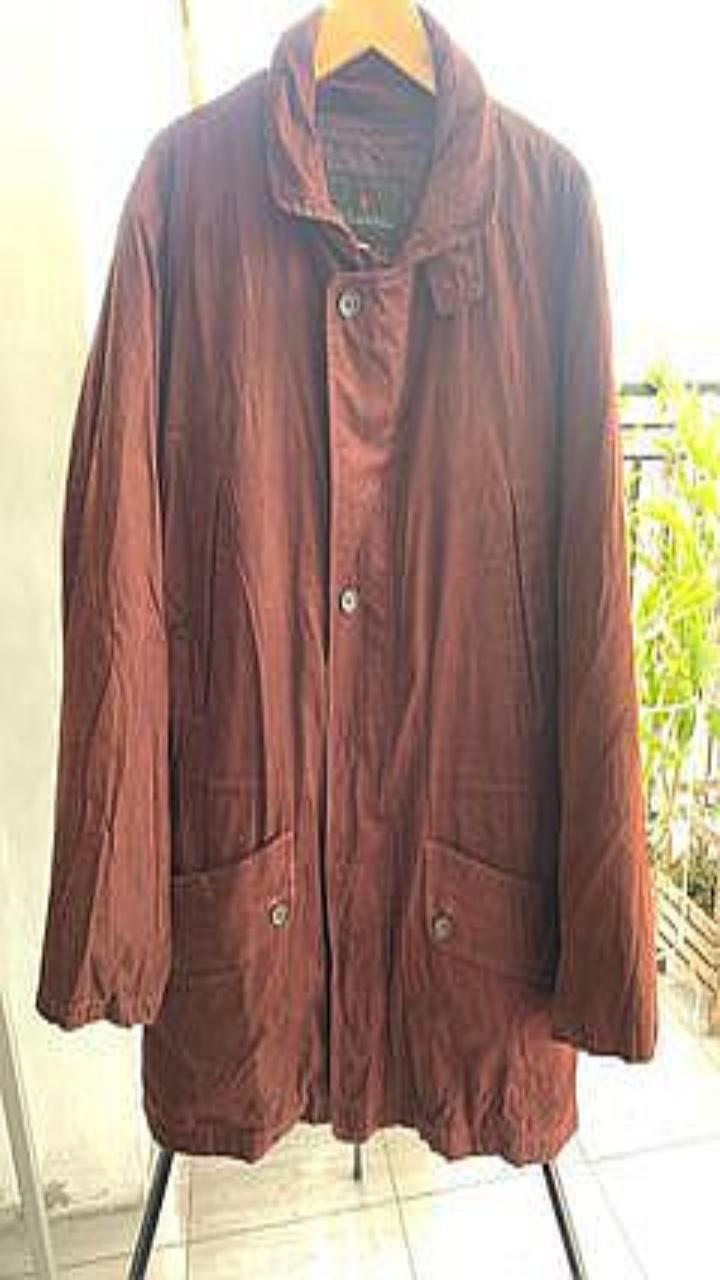Coat: (36, 6, 656, 1163)
